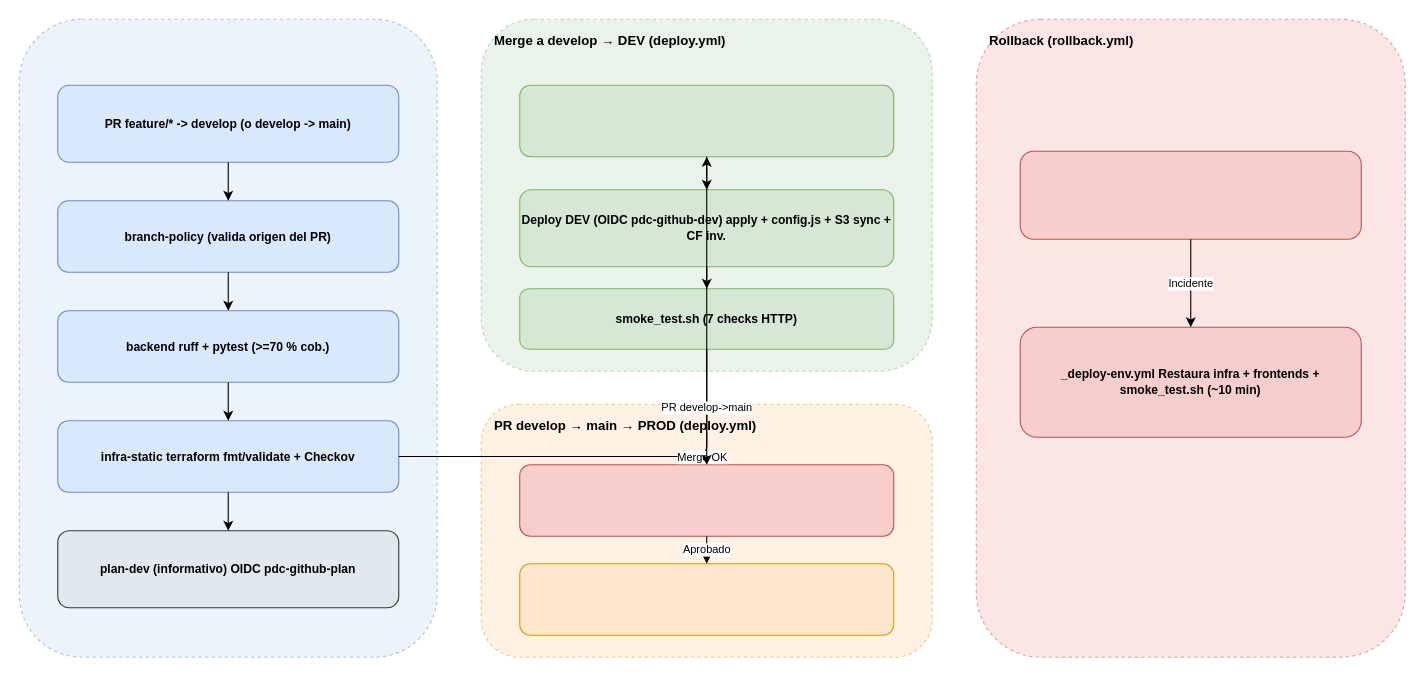
Image size: 1425x677. Some labels were removed from this diagram. Here are the shapes that lost their labels. From the top down, the box of each, then its label:
(519, 84, 894, 157): quality (backend + infra-static)
(1019, 150, 1361, 239): workflow_dispatch ref (SHA/tag) + env (dev|prod)
(18, 18, 437, 657): Pull Request (ci.yml)
(519, 464, 894, 536): Aprobación Manual (Environment prod + 1 reviewer)
(519, 563, 894, 635): Deploy PROD + smoke_test.sh (OIDC pdc-github-prod)
